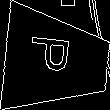P_E: (31, 40, 82, 82)
